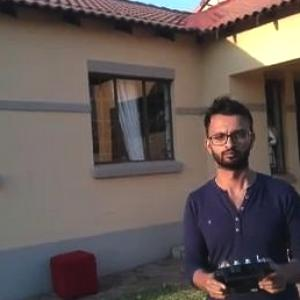follow: (180, 93, 300, 299)
